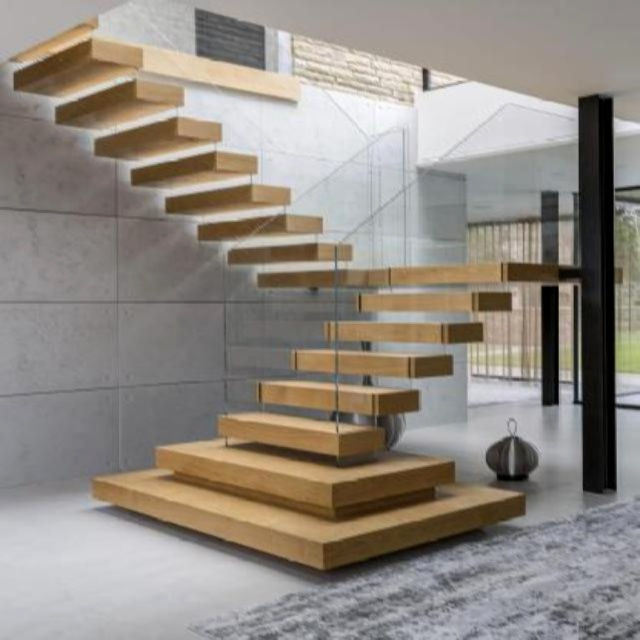stair: (10, 36, 539, 567)
